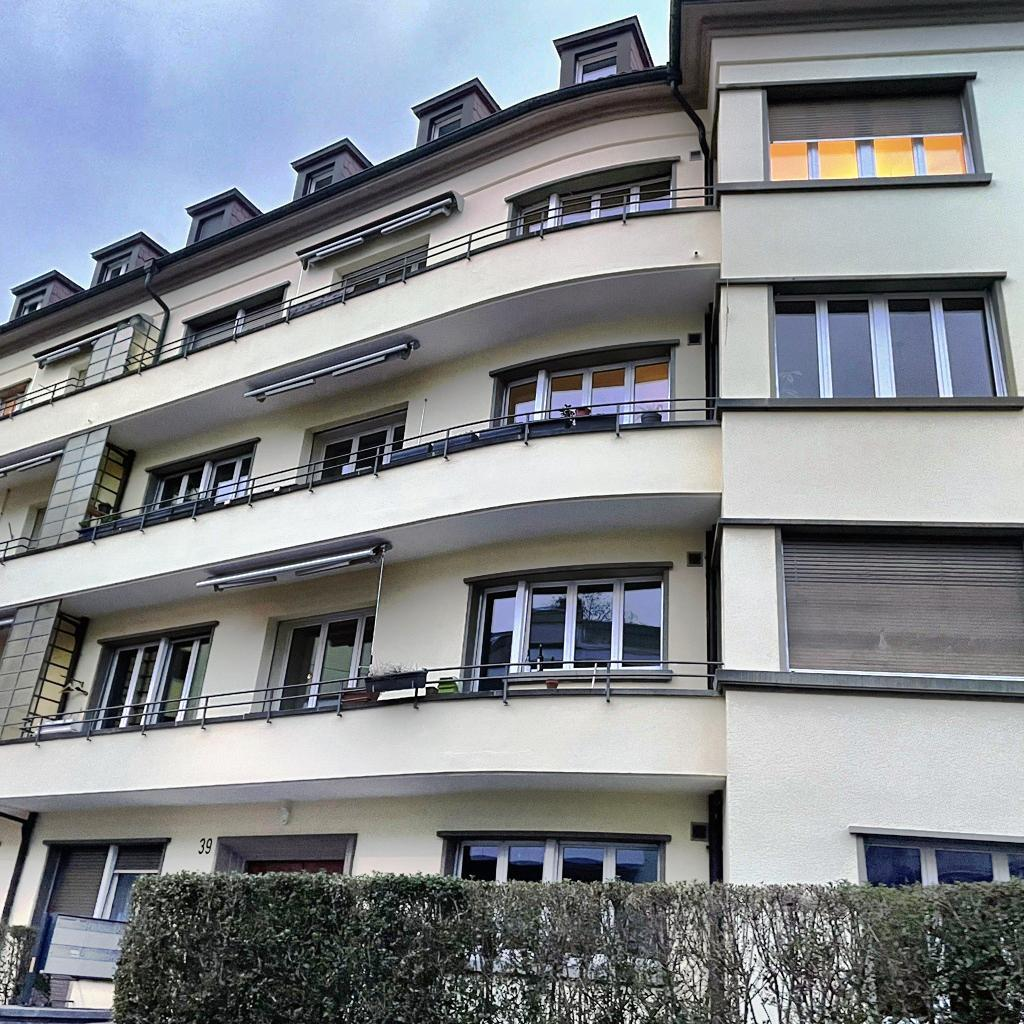balcony-fence: (123, 184, 716, 380), (75, 396, 717, 547), (18, 658, 723, 748), (0, 376, 86, 425), (0, 535, 38, 567)
facade: (0, 0, 1024, 1009)
vegetation: (111, 868, 1024, 1024), (0, 915, 38, 1004)
window: (780, 524, 1024, 682), (770, 286, 1011, 398), (472, 573, 666, 691), (764, 77, 978, 180), (499, 354, 672, 427), (89, 632, 213, 730), (0, 598, 82, 742), (36, 423, 128, 548), (274, 608, 376, 711), (515, 173, 672, 236), (43, 843, 167, 921), (451, 837, 663, 882), (860, 834, 1024, 884), (150, 451, 255, 511), (83, 315, 163, 388), (190, 291, 284, 350), (318, 419, 406, 480), (339, 241, 429, 296), (575, 42, 617, 85), (430, 106, 462, 141), (197, 212, 224, 241), (103, 254, 130, 282), (308, 167, 334, 195), (20, 293, 44, 317)
